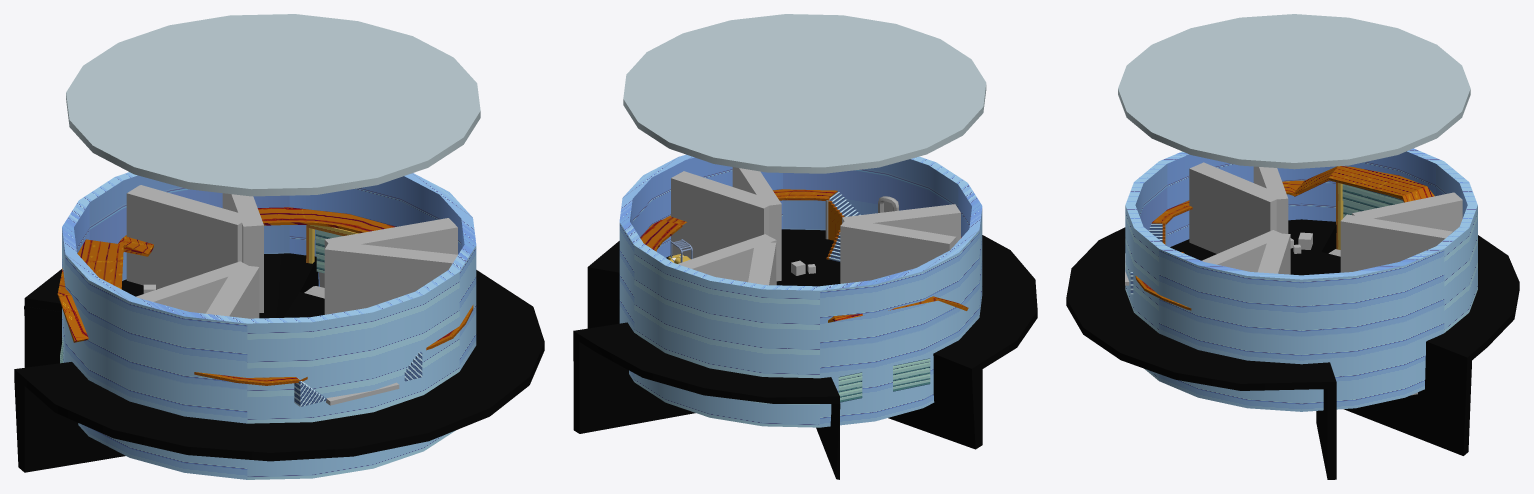
File: LoadingDockLevel.fbx
3 views of the same model, side by side, from view 1: azimuth 30°, elevation 25°; view 2: azimuth 150°, elevation 25°; view 3: azimuth 270°, elevation 25° (orthographic). The views are drawn at different scales.
Visible parts, largest first — view 1: SurroundingWall, Ceiling, Floors, Wall3, Wall6, pCube31, Wall5, Wall2, Wall1, Wall4, pCube28; view 2: SurroundingWall, Ceiling, Floors, Wall5, Wall2, Wall1, Wall4, Wall6, pCube31, Wall3, LoadingDoor__4__2, pCube28 (+1 smaller); view 3: SurroundingWall, Ceiling, Floors, Wall1, Wall4, pCube31, Wall3, Wall6, Wall2, Wall5, LoadingDoor__6__1, pCube28.
Boxes of the visible parts, x1,y1,x2,y2 form: SurroundingWall: (62, 172, 476, 479); Ceiling: (66, 14, 480, 196); Floors: (14, 253, 544, 472); Wall3: (126, 185, 247, 289); Wall6: (324, 241, 457, 314); pCube31: (57, 207, 395, 342); Wall5: (324, 218, 457, 254); Wall2: (136, 261, 248, 313); Wall1: (206, 264, 259, 318); Wall4: (222, 193, 263, 312); pCube28: (194, 305, 473, 385); SurroundingWall: (619, 154, 982, 427); Ceiling: (623, 14, 986, 173); Floors: (573, 229, 1037, 479); Wall5: (671, 171, 776, 258); Wall2: (840, 221, 956, 283); Wall1: (842, 204, 960, 242); Wall4: (678, 234, 776, 284); Wall6: (732, 167, 781, 281); pCube31: (640, 220, 968, 322); Wall3: (748, 242, 776, 285); LoadingDoor__4__2: (893, 358, 930, 391); pCube28: (662, 189, 961, 237); SurroundingWall: (1125, 148, 1477, 411); Ceiling: (1118, 14, 1470, 169); Floors: (1066, 219, 1519, 479); Wall1: (1189, 162, 1283, 253); Wall4: (1340, 214, 1452, 272); pCube31: (1282, 166, 1434, 202); Wall3: (1352, 192, 1462, 231); Wall6: (1201, 230, 1281, 272); Wall2: (1253, 166, 1288, 233); Wall5: (1258, 233, 1290, 274); LoadingDoor__6__1: (1342, 184, 1382, 208); pCube28: (1135, 190, 1295, 310).
Bounding box in the file's own units: 5487 × 4053 × 5552.
